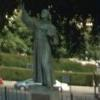Statue: (19, 7, 63, 84)
